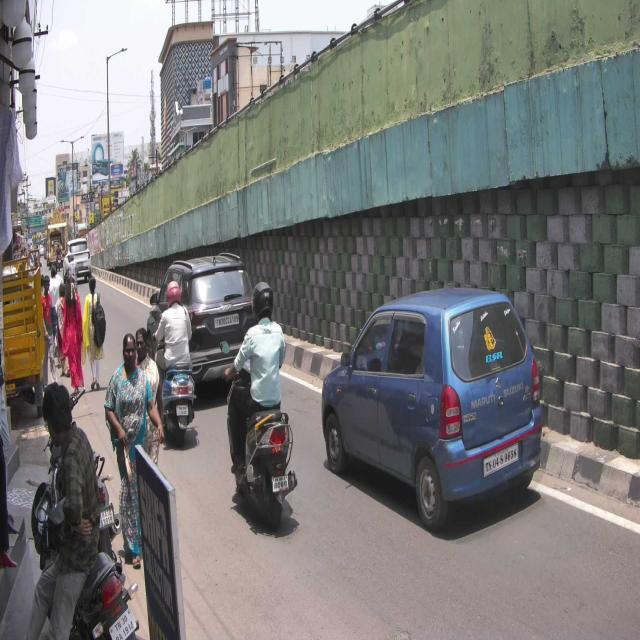single_rider: (219, 282, 301, 530)
